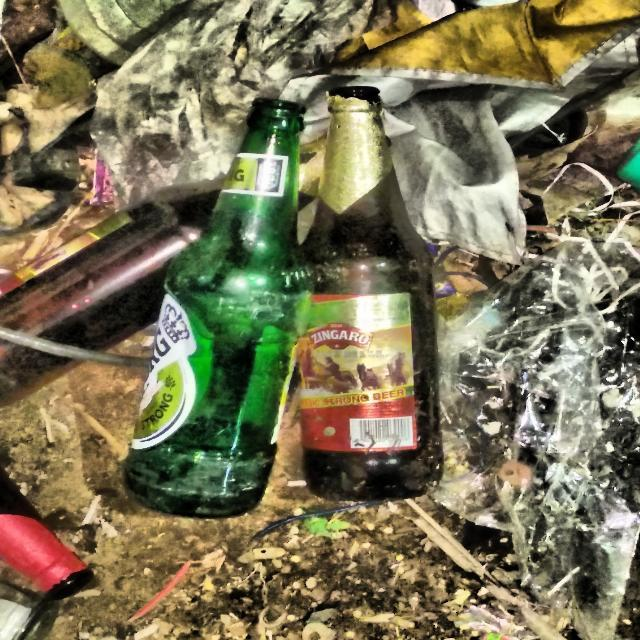anorganik: (0, 134, 374, 403), (428, 221, 640, 638), (119, 91, 306, 520), (301, 84, 445, 502), (0, 460, 96, 599)
